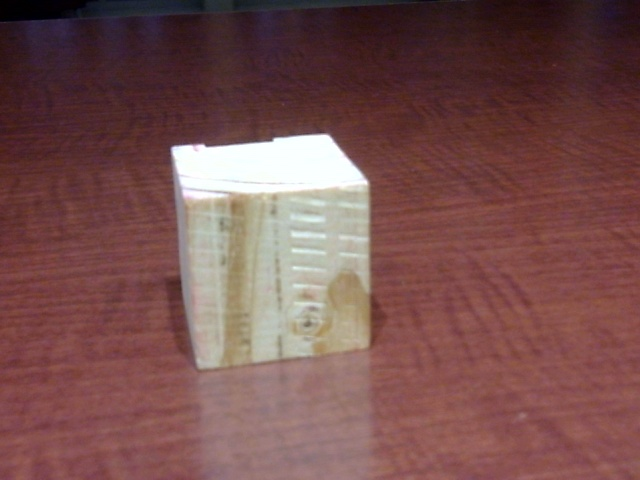NormalBlock: (183, 179, 374, 368)
